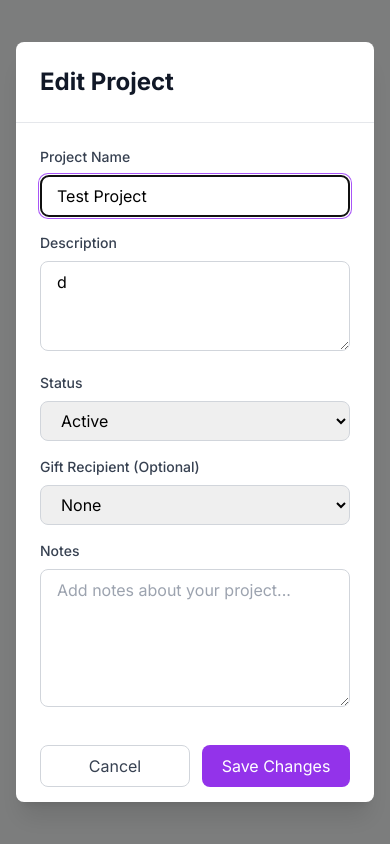
Test: EditProjectModal error handling › falls back to a generic message when the error has no message at all
Click the button "Save Changes".
click(276, 766)  # box [202,745,350,787]
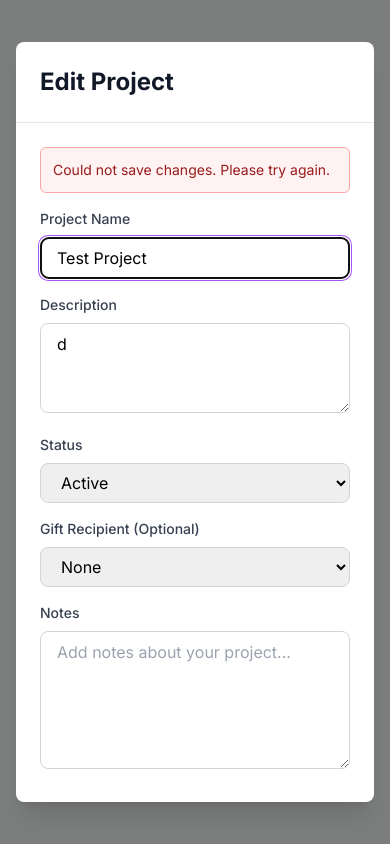
Expected: the message shows "Could not save changes", [53,161,330,178]
